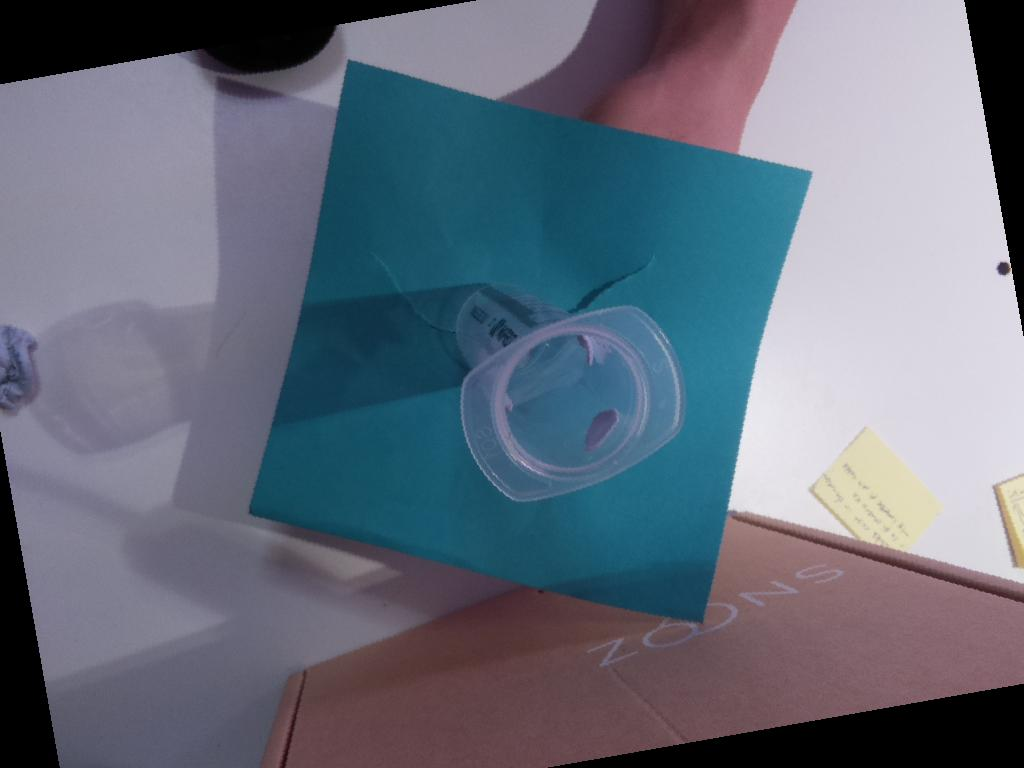dirty: (461, 304, 689, 502)
